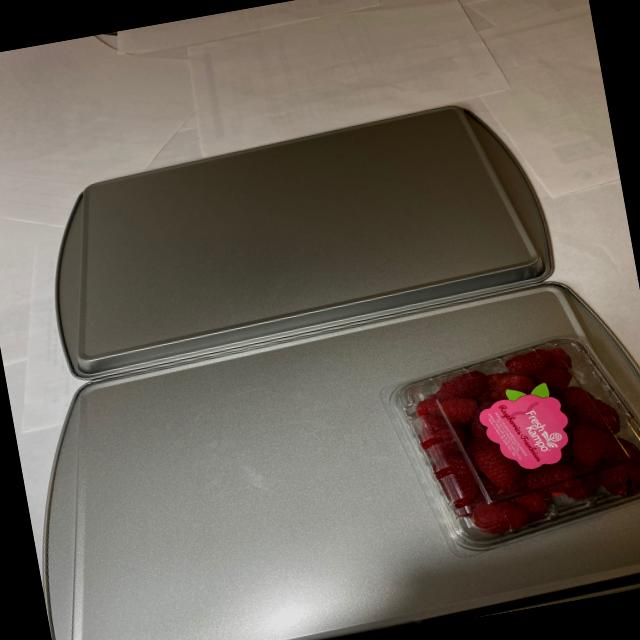raspberries: (401, 338, 640, 539)
